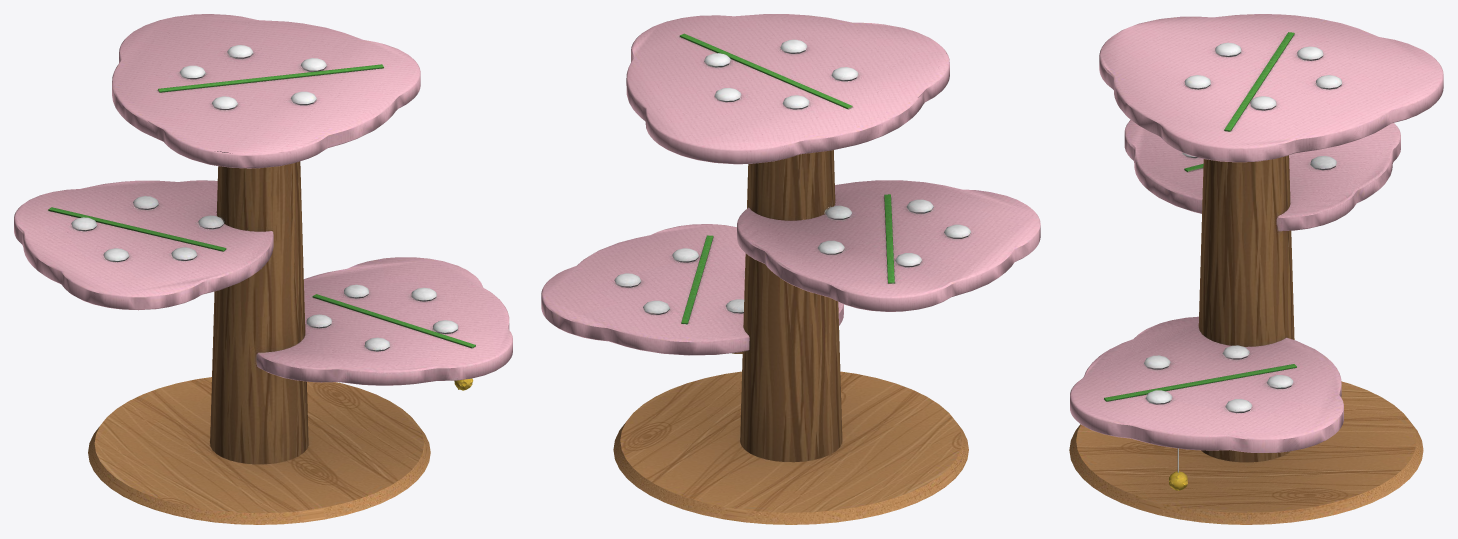
Rendered from sakura_tower.glb.
3 views of the same model, side by side, from view 1: azimuth 30°, elevation 25°; view 2: azimuth 150°, elevation 25°; view 3: azimuth 270°, elevation 25° (orthographic). The views are drawn at different scales.
Parts seen in each view (by area): view 1: sakura_tower; view 2: sakura_tower; view 3: sakura_tower.
Boxes of the visible parts, <box> form: sakura_tower: <box>14,14,512,524</box>; sakura_tower: <box>541,14,1040,524</box>; sakura_tower: <box>1069,14,1443,524</box>.
Bounding box in the file's own units: 1.52 × 1.24 × 1.1.
1 material, 1 textured.
